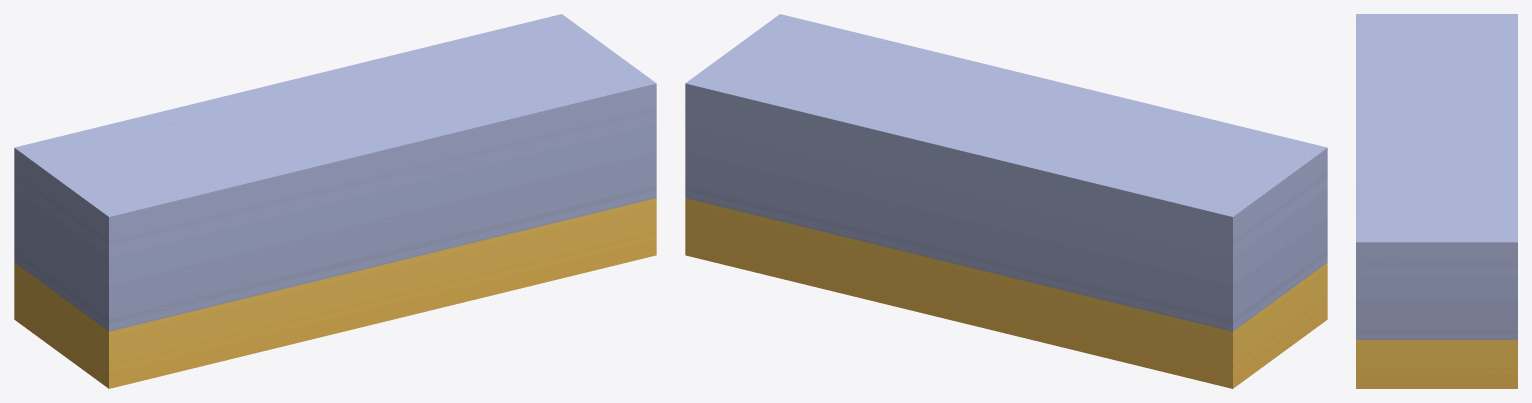
File: wall-door-center.glb
The picture shows the model from 3 angles, left to right: view 1: azimuth 30°, elevation 25°; view 2: azimuth 150°, elevation 25°; view 3: azimuth 270°, elevation 25°; orthographic projection. The views are drawn at different scales.
Parts seen in each view (by area): view 1: wall-door-center; view 2: wall-door-center; view 3: wall-door-center.
Boxes of the visible parts, left/top/right/bottom form: wall-door-center: left=14, top=14, right=656, bottom=388; wall-door-center: left=685, top=14, right=1327, bottom=388; wall-door-center: left=1356, top=14, right=1517, bottom=388.
Bounding box in the file's own units: 1 × 0.3 × 0.3.
Materials: 1 (1 with a texture image).
